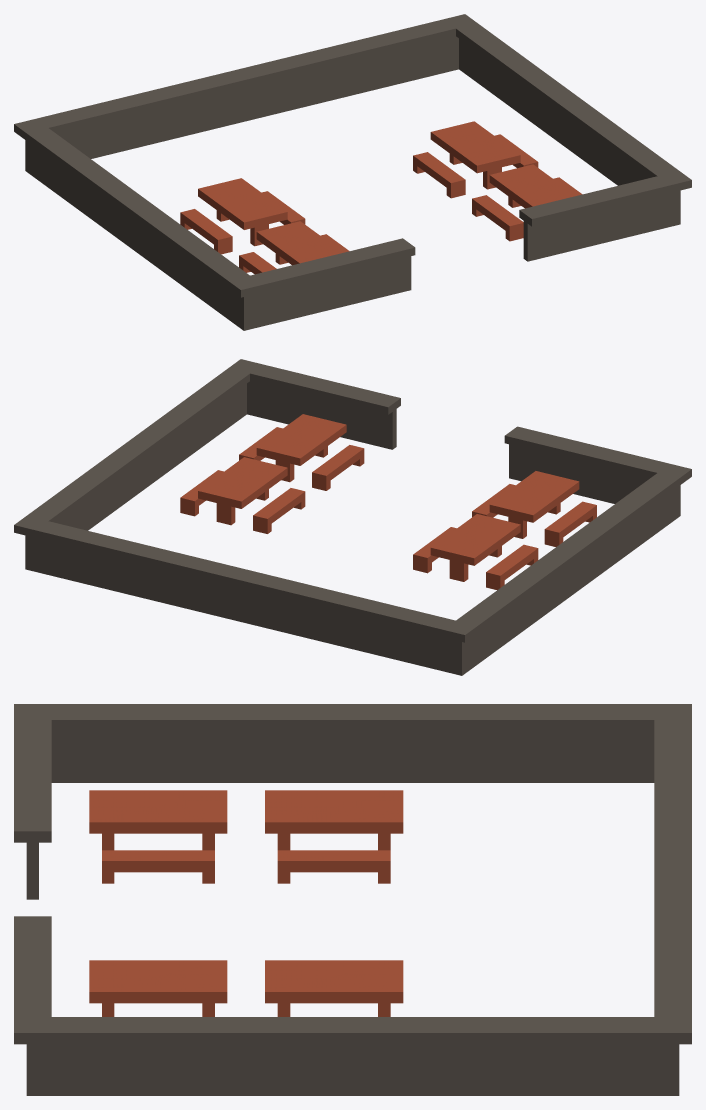
Rendered from foodtruck_spot_a.obj.
The picture shows the model from 3 angles, top to bottom: view 1: azimuth 30°, elevation 25°; view 2: azimuth 150°, elevation 25°; view 3: azimuth 270°, elevation 25°; orthographic projection. The views are drawn at different scales.
Bounding box in the file's own units: 6.2 × 0.6 × 5.4.
1 material, 1 textured.
